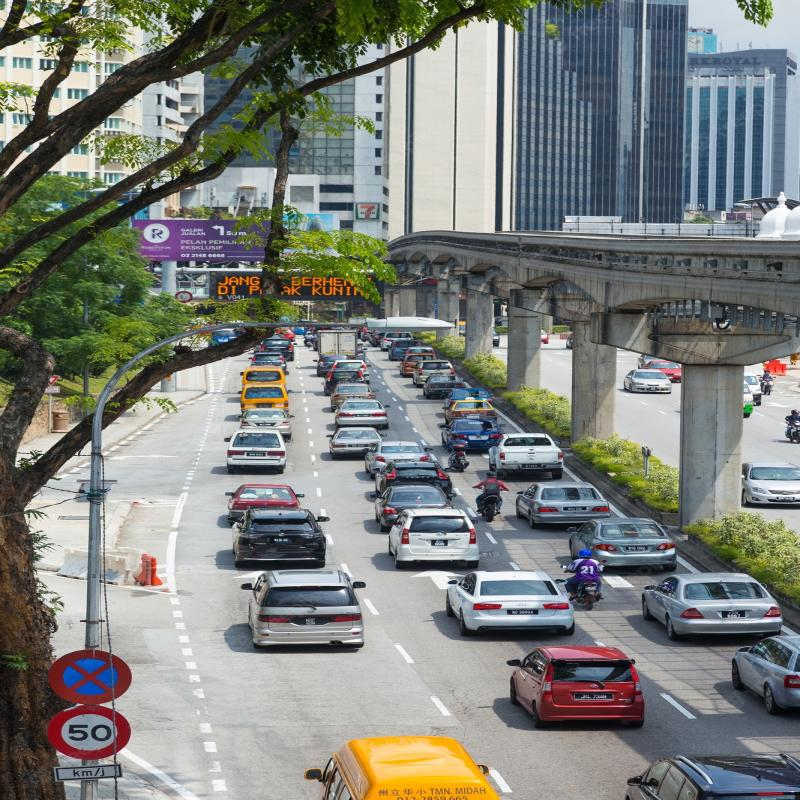car: (318, 722, 489, 800), (253, 574, 367, 656), (648, 574, 778, 634), (528, 652, 628, 727), (373, 502, 475, 567), (526, 472, 631, 532), (238, 502, 324, 575), (468, 570, 568, 624), (598, 510, 686, 565), (493, 430, 581, 470)
